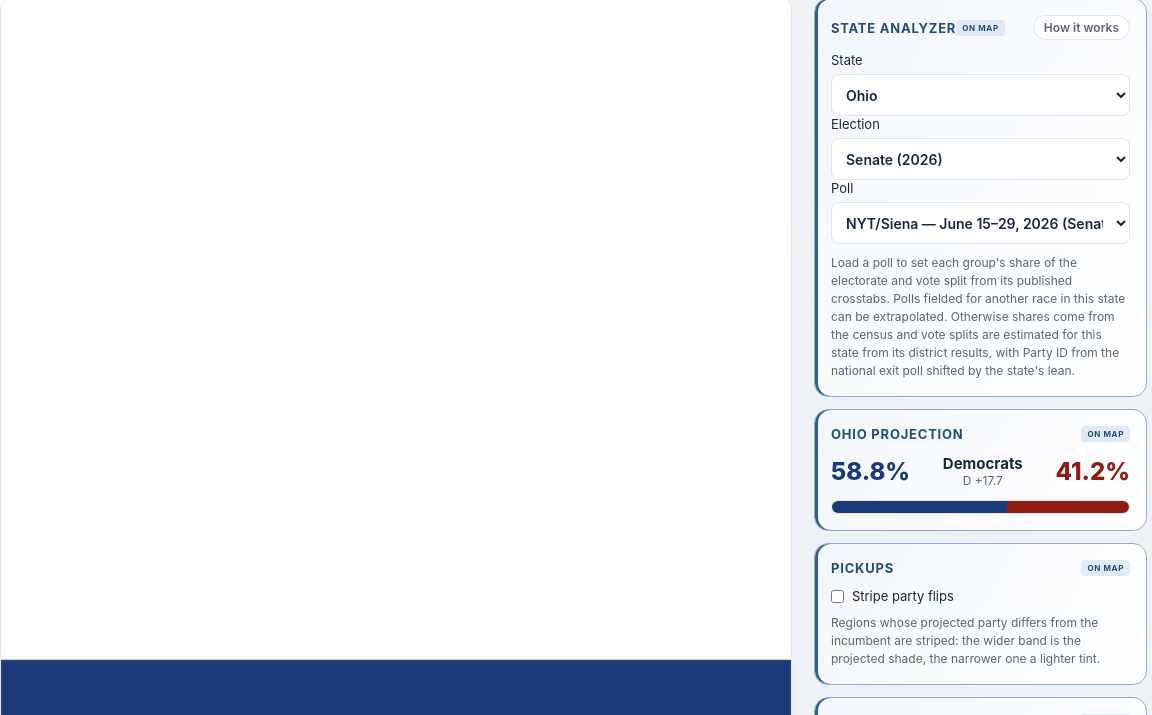
it: StateAnalyzer › loads a poll's crosstabs into the vote splits
Select "NYT/Siena — June 15–29, 2026 (Senate)" in the dropdown with id "analyzer-poll" at (980,223), box [831,202,1130,244]
(page scrolled)
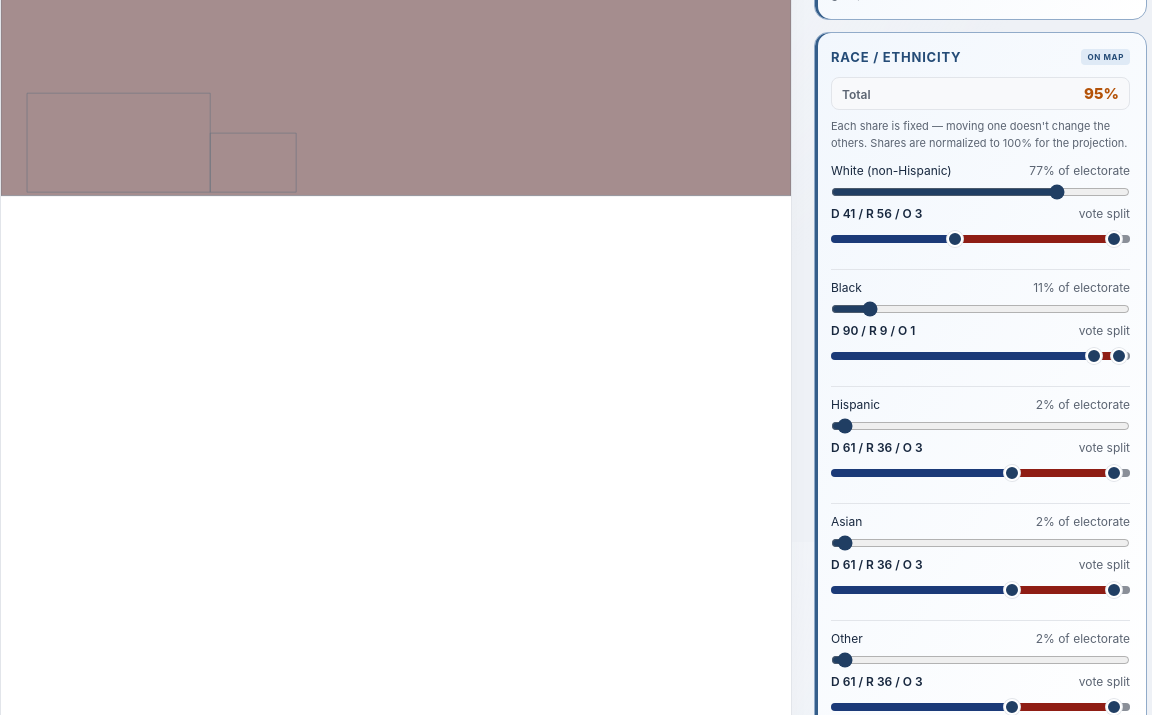
Result: the slider named "White (non-Hispanic) share of electorate" holds "77" at [831,184,1130,200]
Result: the slider named "White (non-Hispanic) Democratic vote share" holds "41" at [831,227,1130,251]
Result: the slider named "Black share of electorate" holds "11" at [831,301,1130,317]
